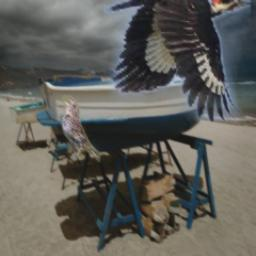Sparrow: (60, 96, 100, 177)
Woodpecker: (103, 0, 251, 122)
